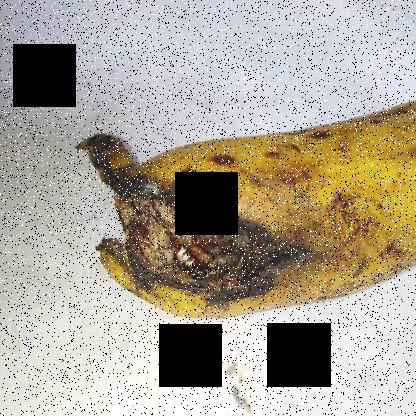rotten: (77, 122, 312, 356)
